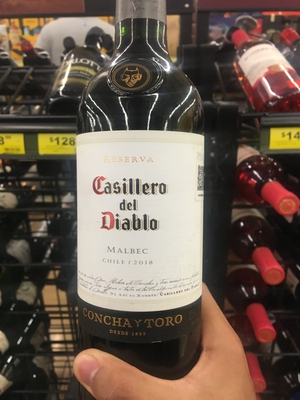casillero del diablo malbec: (73, 1, 220, 390)
